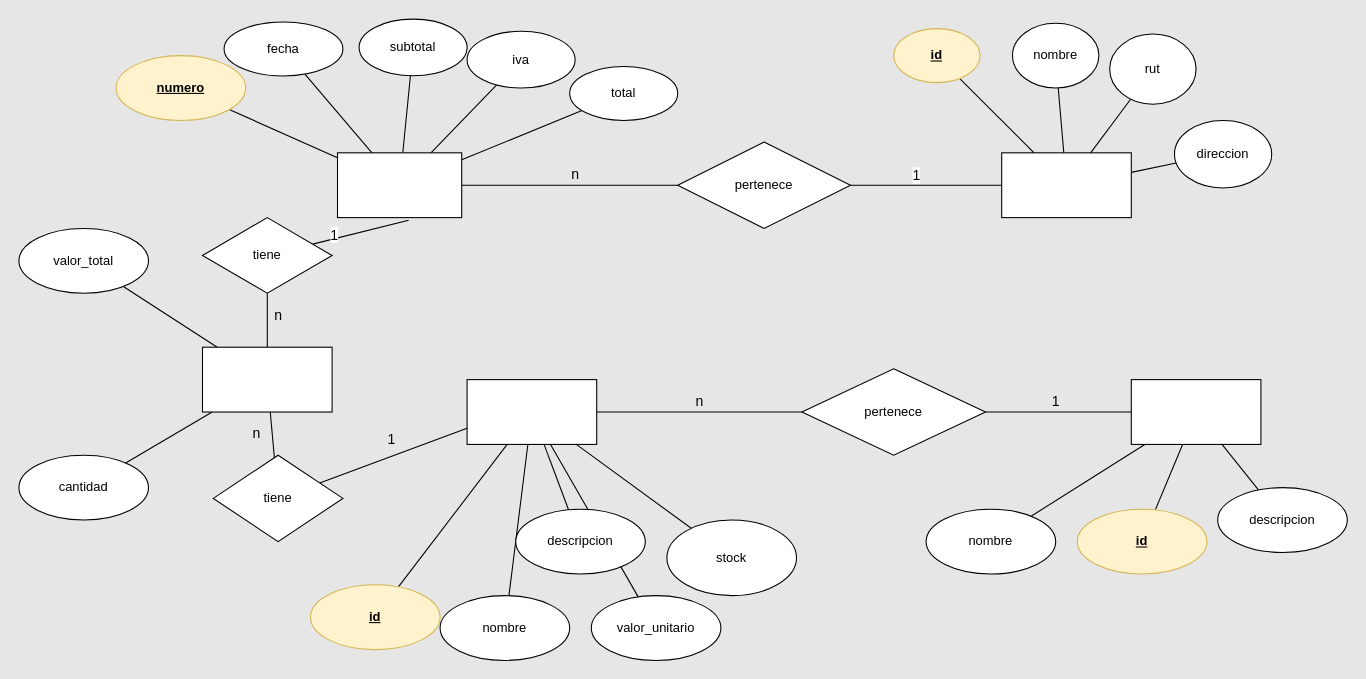
The diagram is 1366 pixels wide and 679 high, and some of its shapes have lost their labels. The centre of each missing label's shape, as x and y in pixels:
"categoria" goes at [1195,411].
"cliente" goes at [1066,185].
"factura" goes at [399,185].
"listado_producto" goes at [266,379].
"producto" goes at [531,411].
